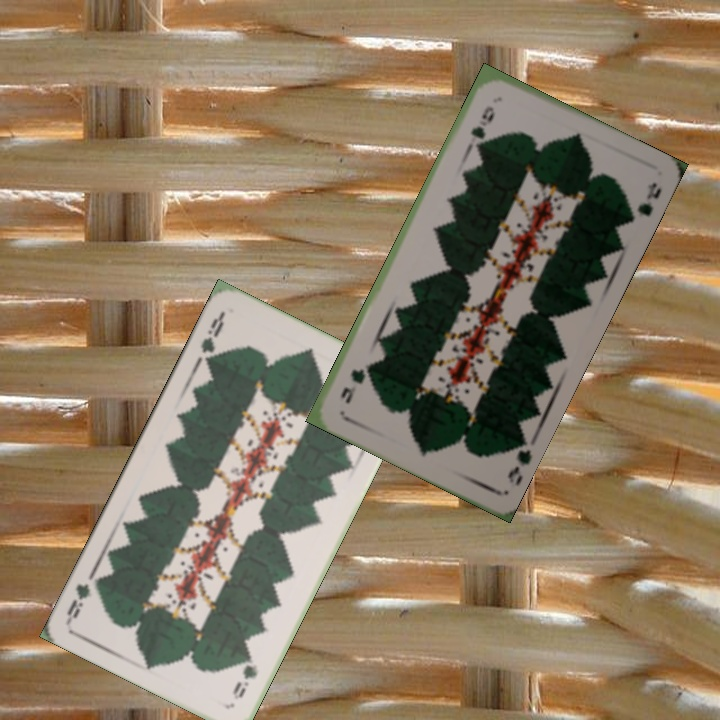G9: (196, 308, 227, 368), (228, 651, 260, 703), (503, 434, 534, 487), (467, 102, 498, 141)
